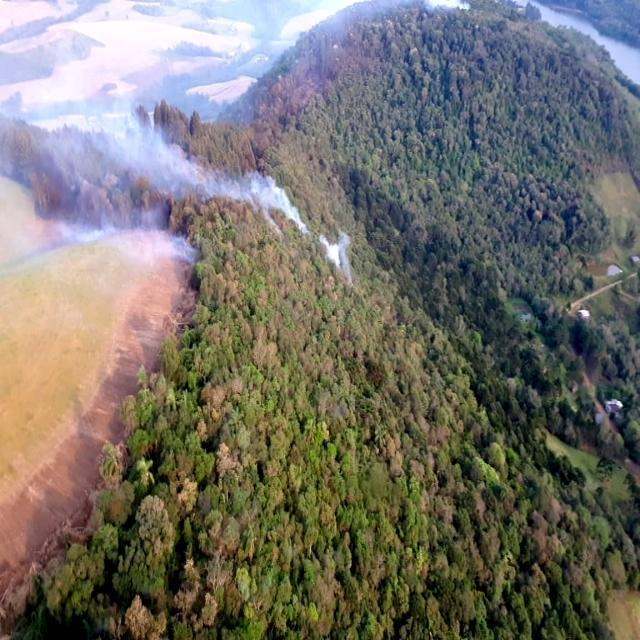Smoke: (88, 98, 206, 208), (241, 164, 303, 229)
